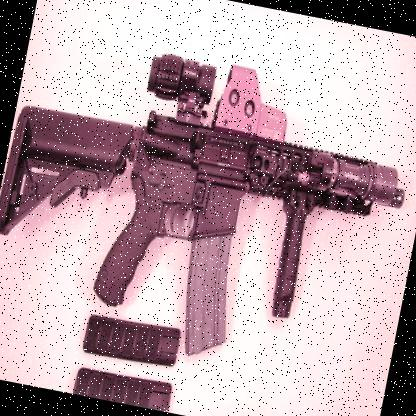rifle: (0, 16, 416, 375)
